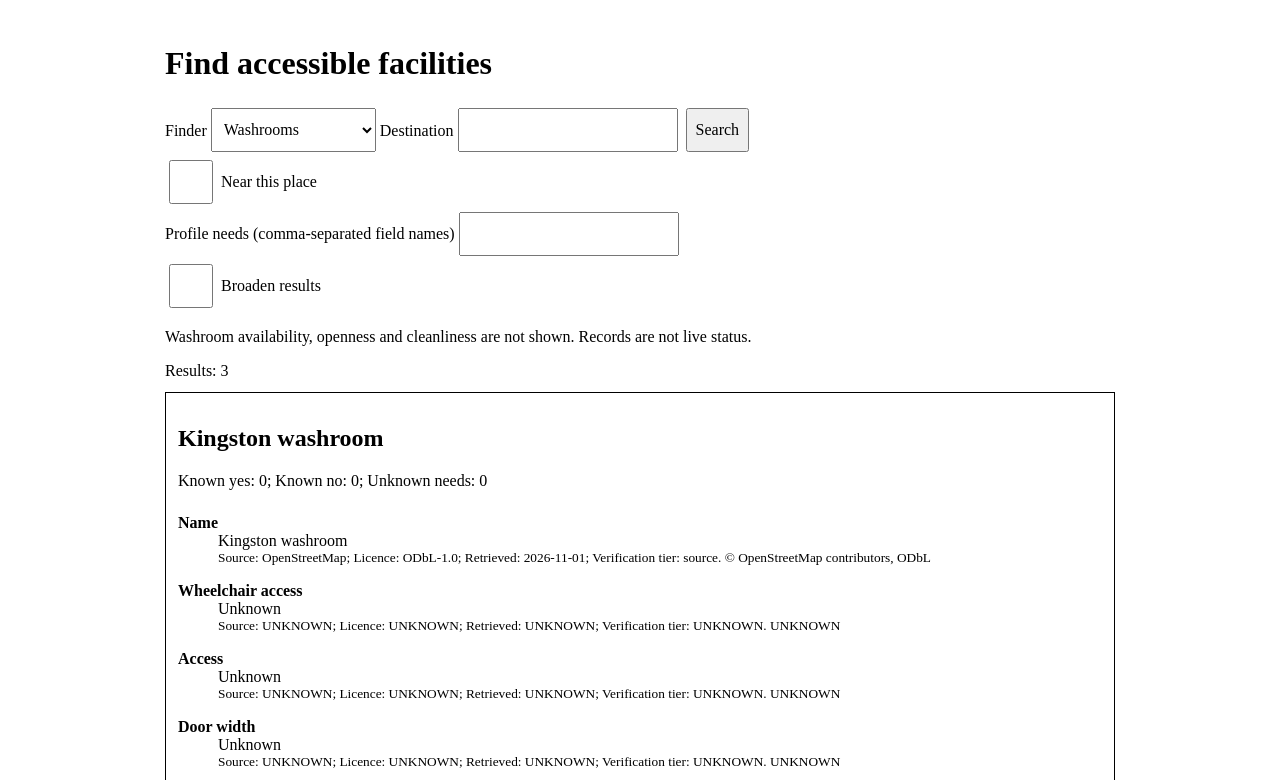
Test: PackFindersPage honesty and labels › shows known-yes changing tables in the main list and unknown only in a labelled Unknown group
Select "Changing tables" in the dropdown labelled "Finder" at (293, 130), box top-left (211, 108), bottom-right (376, 152)
(page scrolled)
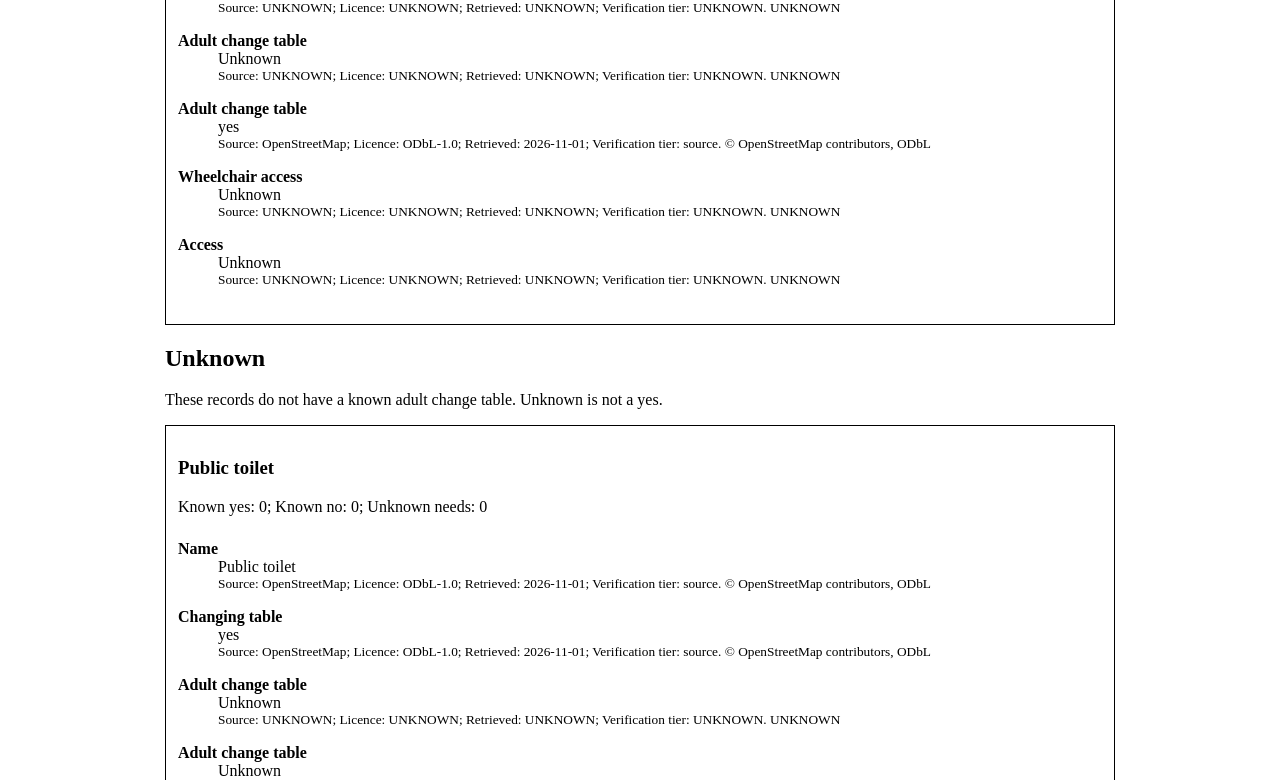
Expected: the heading "Public toilet" is shown, top-left (178, 457), bottom-right (274, 478)
Result: the text "These records do not have a known adult change table. Unknown is not a yes." is shown at top-left (165, 391), bottom-right (663, 408)
